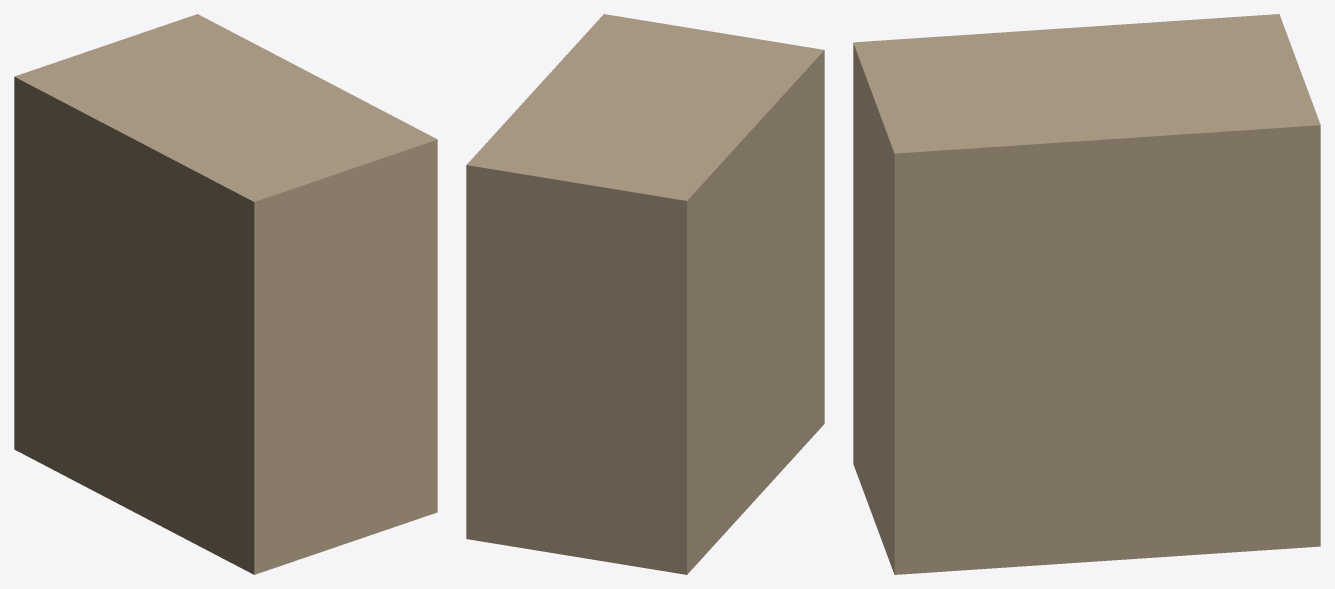
File: bld_393483733.dae
3 views of the same model, side by side, from view 1: azimuth 30°, elevation 25°; view 2: azimuth 150°, elevation 25°; view 3: azimuth 270°, elevation 25° (orthographic). The views are drawn at different scales.
Visible parts, largest first — view 1: bld_393483733; view 2: bld_393483733; view 3: bld_393483733.
Boxes of the visible parts, bbox=[...] form: bld_393483733: bbox=[14, 14, 437, 574]; bld_393483733: bbox=[466, 14, 824, 574]; bld_393483733: bbox=[853, 14, 1320, 574].
Size of the model in its own units: 5.69 by 8.05 by 8.
